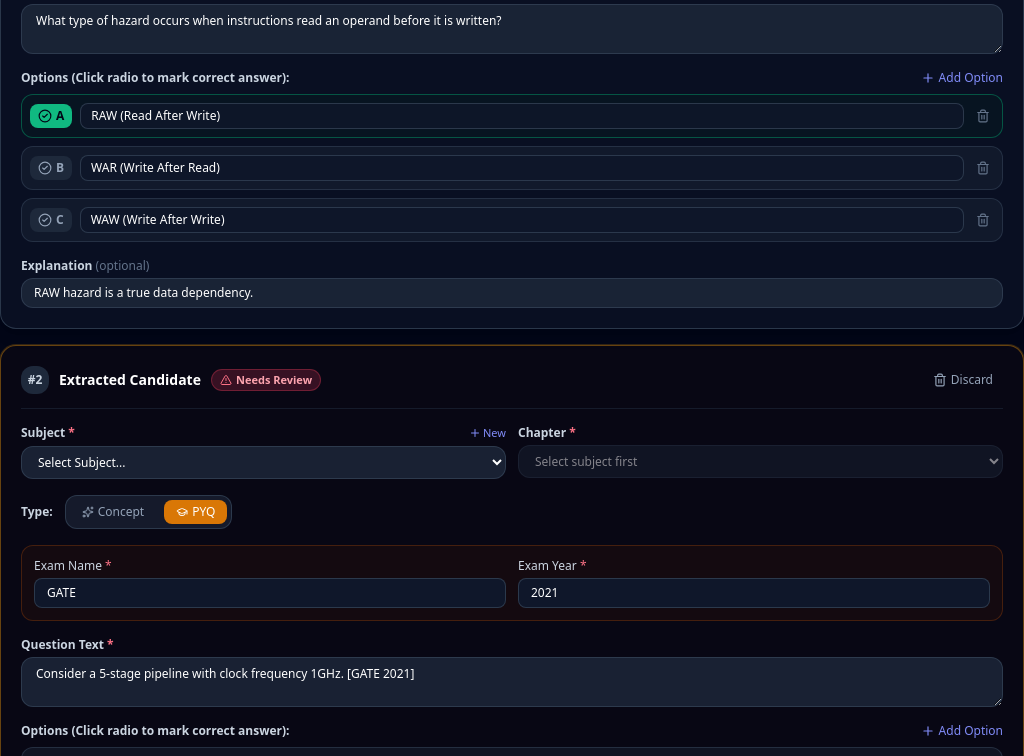
Admin PDF Ingestion UI (PROMPT 15 & PROMPT 27) › allows discarding an individual candidate question
This screenshot has width=1024, height=756.
(page scrolled)
Check: the text box "Consider a 5-stage pipeline" below "Exam Name" is shown, box [21,656,1003,706]
Note: Discard candidate #2
Click the button with aria-label "Discard candidate 2" at [963, 380], box [923,368,1003,392]
(page scrolled)
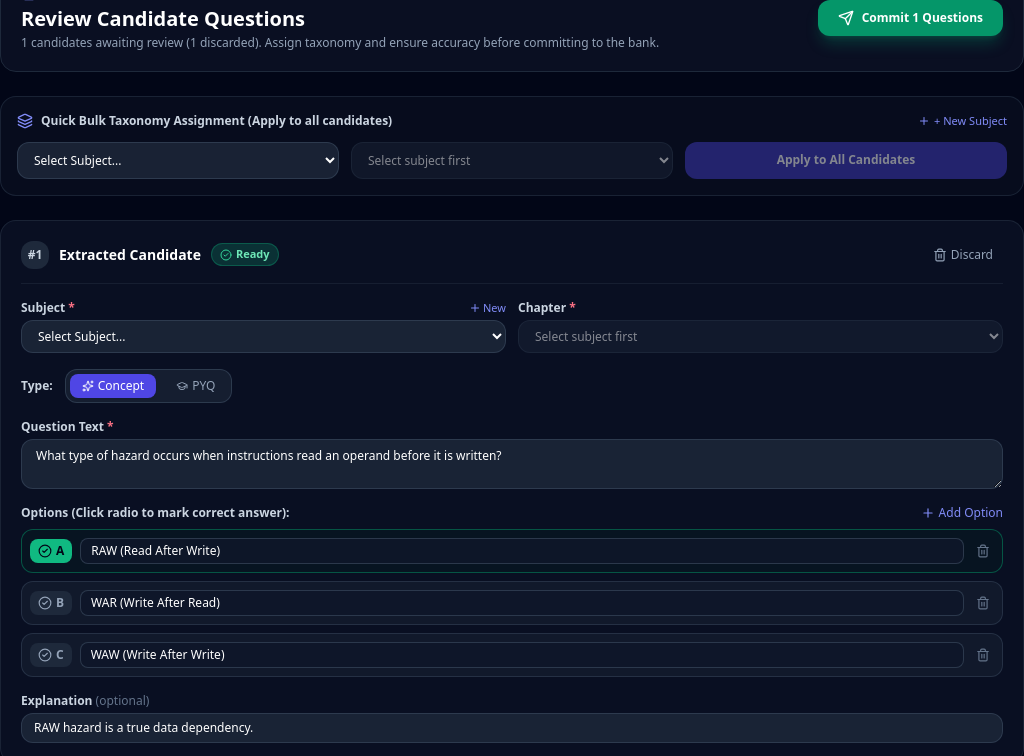
Check: the text "Consider a 5-stage pipeline" is not shown
Check: the text "1 discarded" is shown, box [21,35,659,51]
